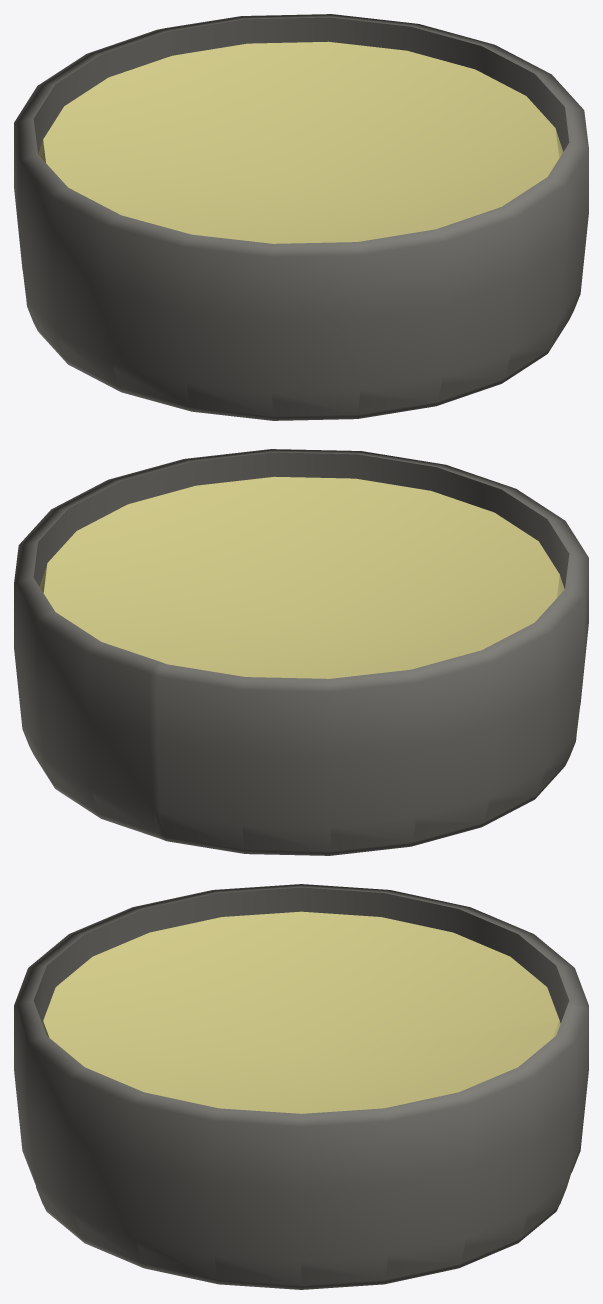
Rendered from pot_fbx.fbx.
3 views of the same model, one above another, from view 1: azimuth 30°, elevation 25°; view 2: azimuth 150°, elevation 25°; view 3: azimuth 270°, elevation 25° (orthographic).
Parts seen in each view (by area): view 1: pot; view 2: pot; view 3: pot.
Part boxes in pixels (x1,y1,x2,y2): pot: (14, 14, 588, 420); pot: (14, 449, 588, 855); pot: (14, 884, 588, 1289).
Bounding box in the file's own units: 2 × 0.7616 × 2.
